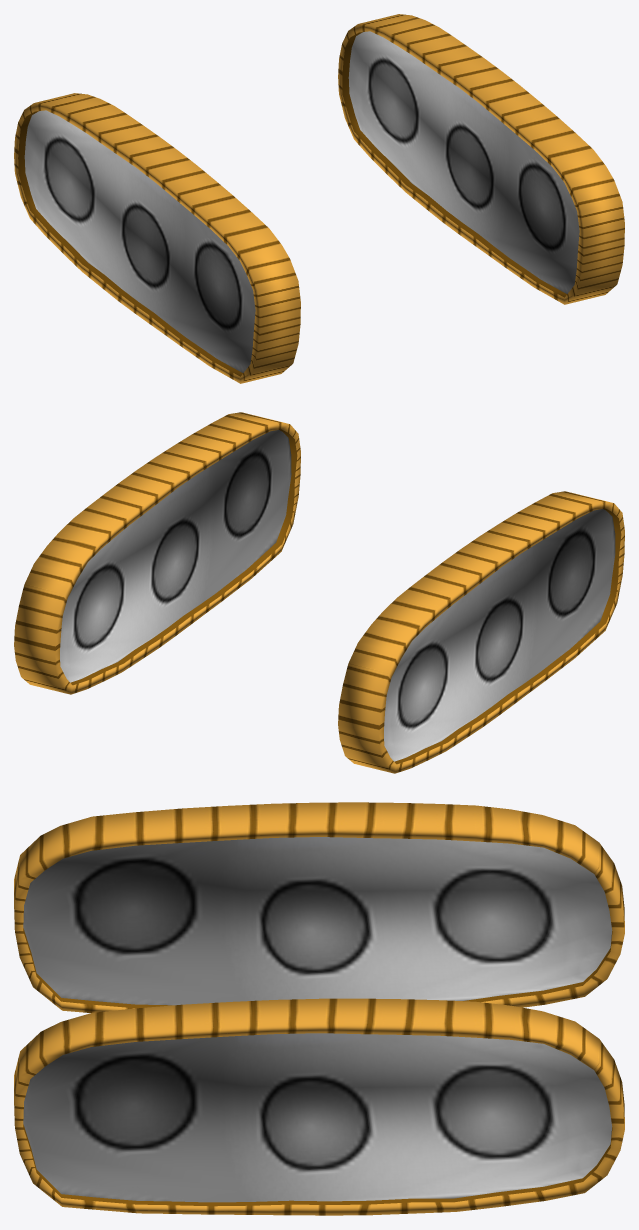
File: ChenillesSeules.dae
The picture shows the model from 3 angles, top to bottom: view 1: azimuth 30°, elevation 25°; view 2: azimuth 150°, elevation 25°; view 3: azimuth 270°, elevation 25°; orthographic projection. The views are drawn at different scales.
Parts seen in each view (by area): view 1: ChenilleG, ChenilleD; view 2: ChenilleD, ChenilleG; view 3: ChenilleG, ChenilleD.
Boxes of the visible parts, x1,y1,x2,y2 form: ChenilleG: (338, 14, 624, 304); ChenilleD: (14, 93, 300, 383); ChenilleD: (338, 491, 624, 773); ChenilleG: (14, 412, 300, 694); ChenilleG: (14, 998, 624, 1215); ChenilleD: (14, 802, 624, 1012).
Size of the model in its own units: 2.69 by 3.13 by 1.09.
1 material, 1 textured.
